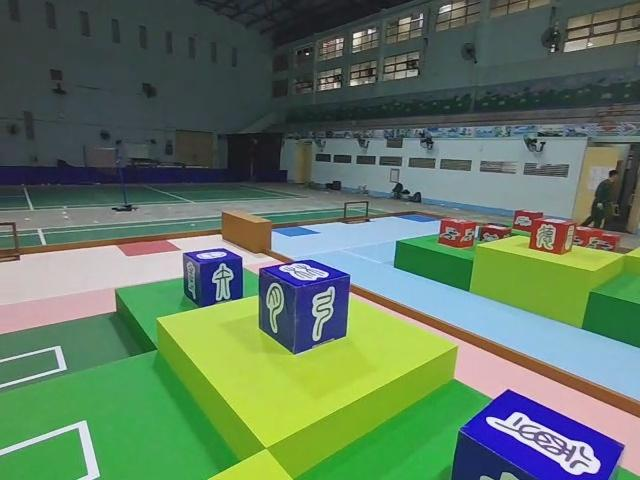R2 Fake Blue: (452, 390, 627, 480), (256, 261, 350, 357), (183, 248, 244, 309)
